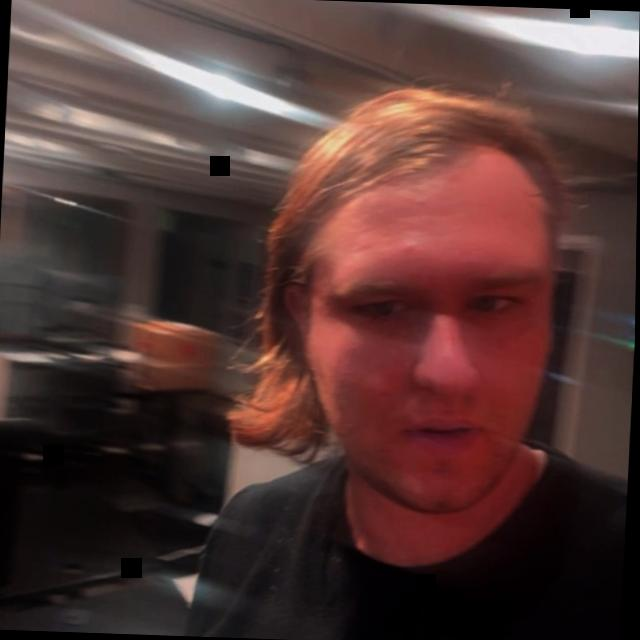NO-Mask: (209, 34, 617, 572)
